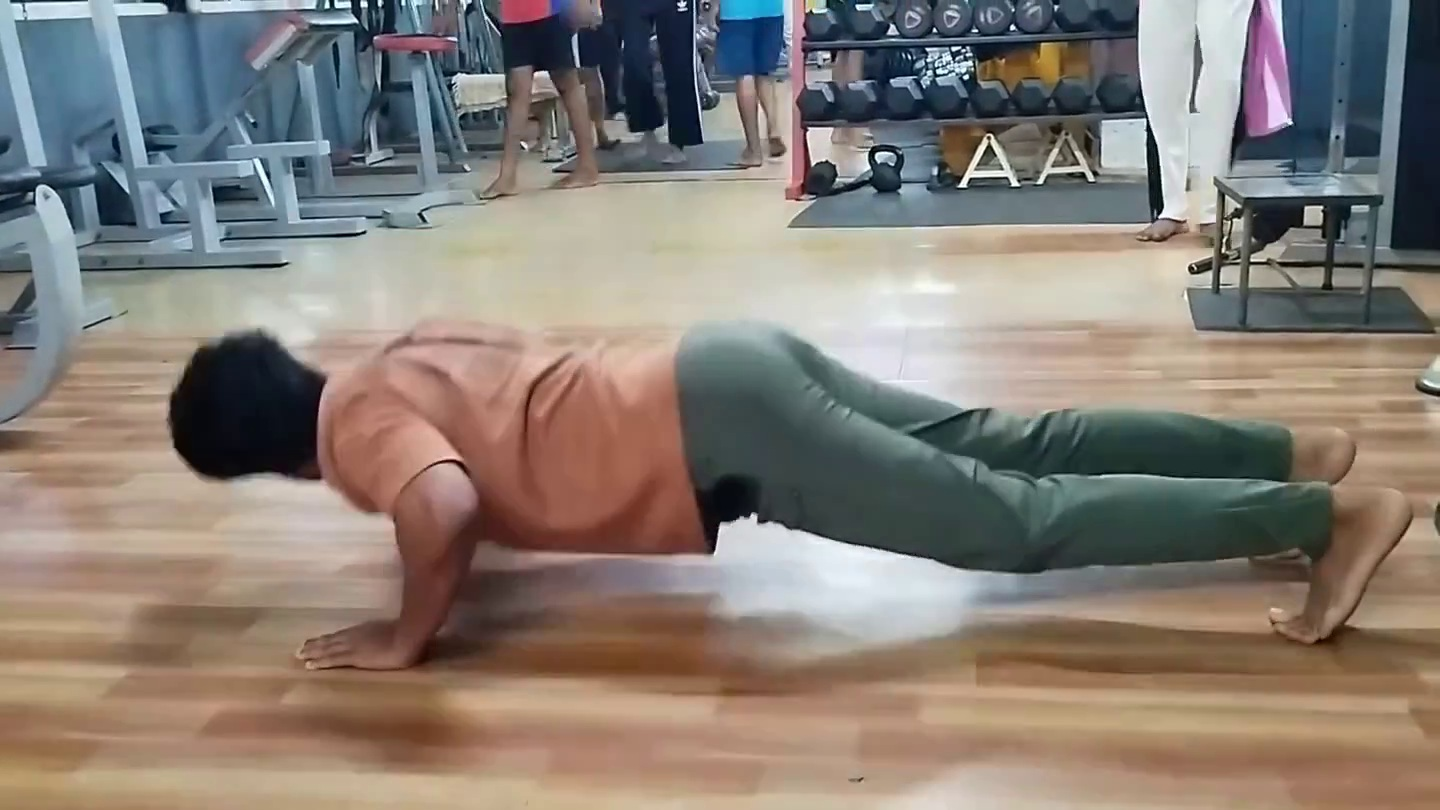push_up: (126, 252, 1440, 761)
